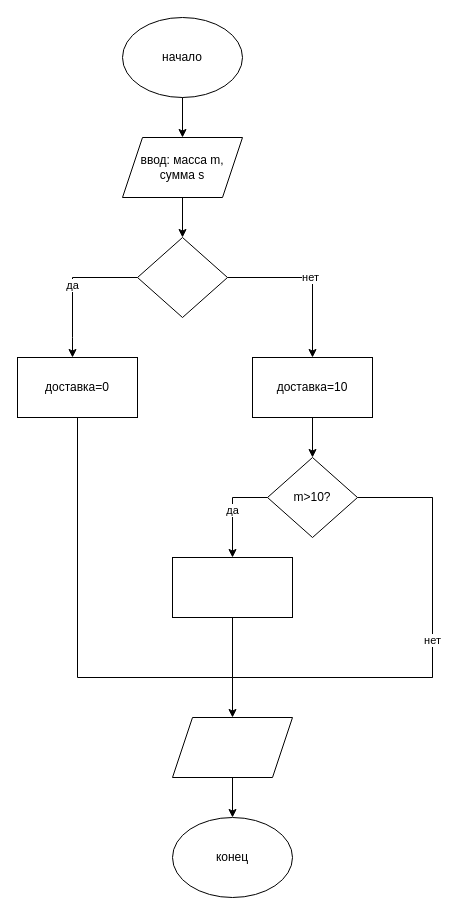
The diagram is 458 pixels wide and 915 high, and some of its shapes have lost their labels. The centre of each missing label's shape, as x and y in pixels:
"s>=100?" goes at [182,277].
"вывод: доставка" goes at [232,747].
"доставка= доставка+8" goes at [232,587].
